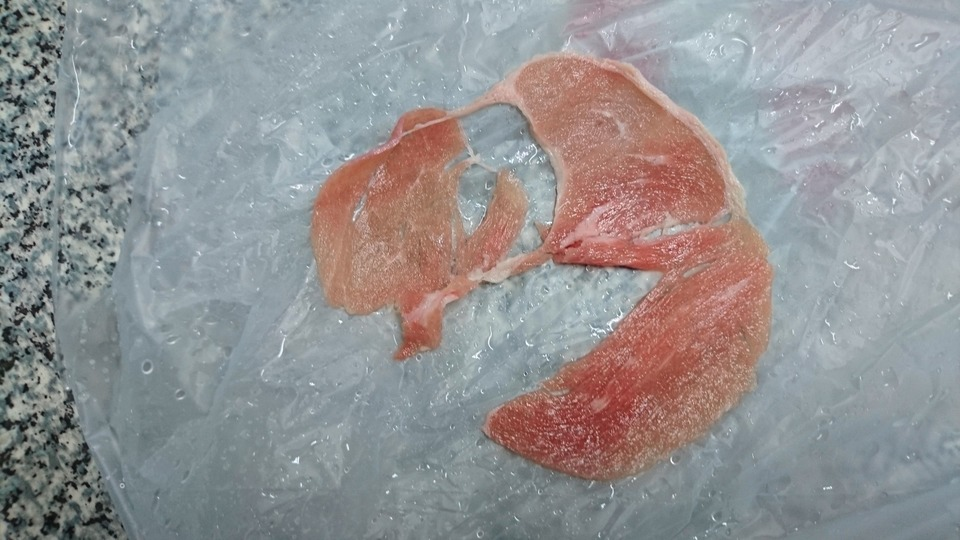restructured meat: (308, 70, 802, 462)
